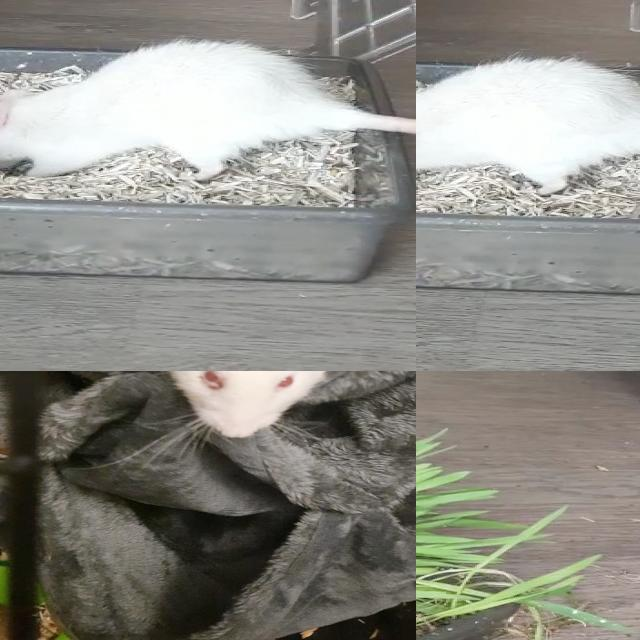rat: (0, 39, 344, 180), (416, 60, 640, 192), (141, 371, 373, 440)
